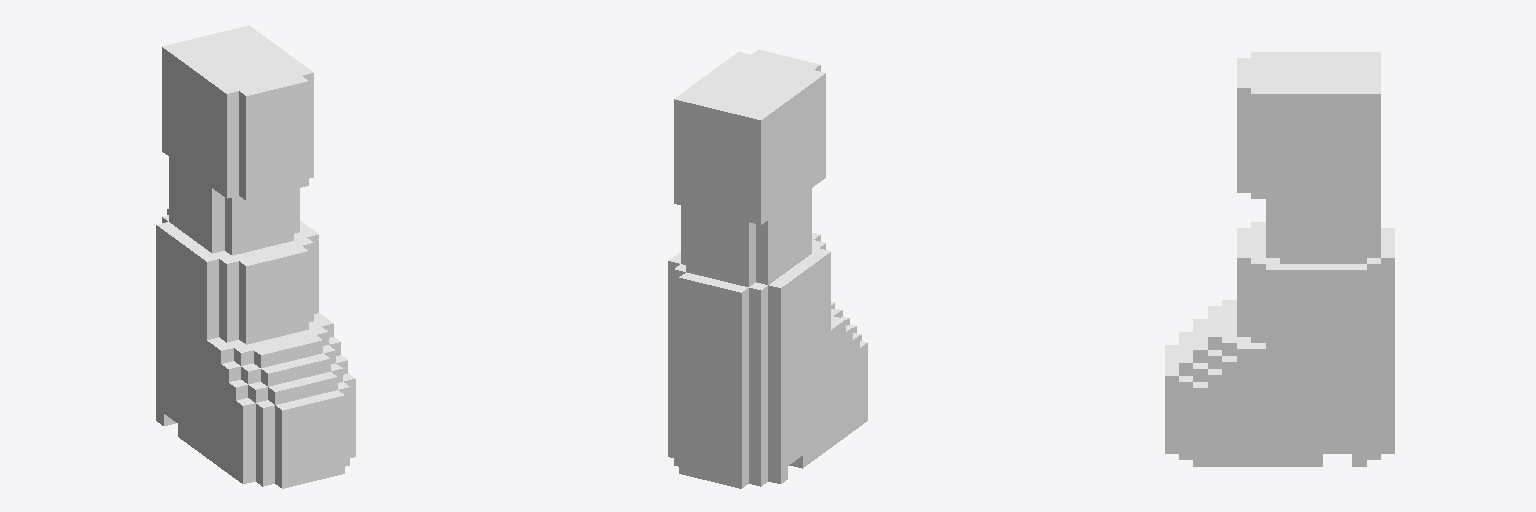
Rendered from enemy-8.obj.
3 renders of one model, left to right at view 1: azimuth 30°, elevation 25°; view 2: azimuth 150°, elevation 25°; view 3: azimuth 270°, elevation 25°, orthographic.
Parts seen in each view (by area): view 1: object 1; view 2: object 1; view 3: object 1.
Boxes of the visible parts, <box> form: object 1: <box>156,25,355,488</box>; object 1: <box>668,49,867,488</box>; object 1: <box>1165,52,1394,466</box>.
Bounding box in the file's own units: 0.9 × 2.8 × 1.6.